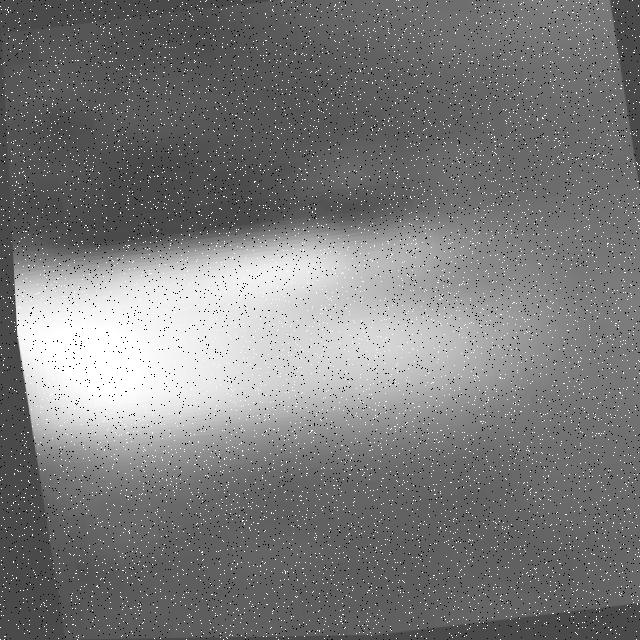person: (8, 169, 545, 467)
